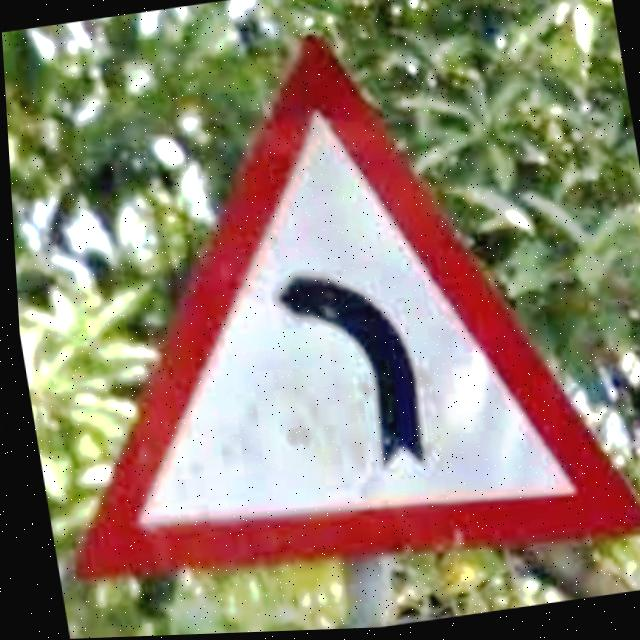leftbend: (69, 37, 640, 585)
